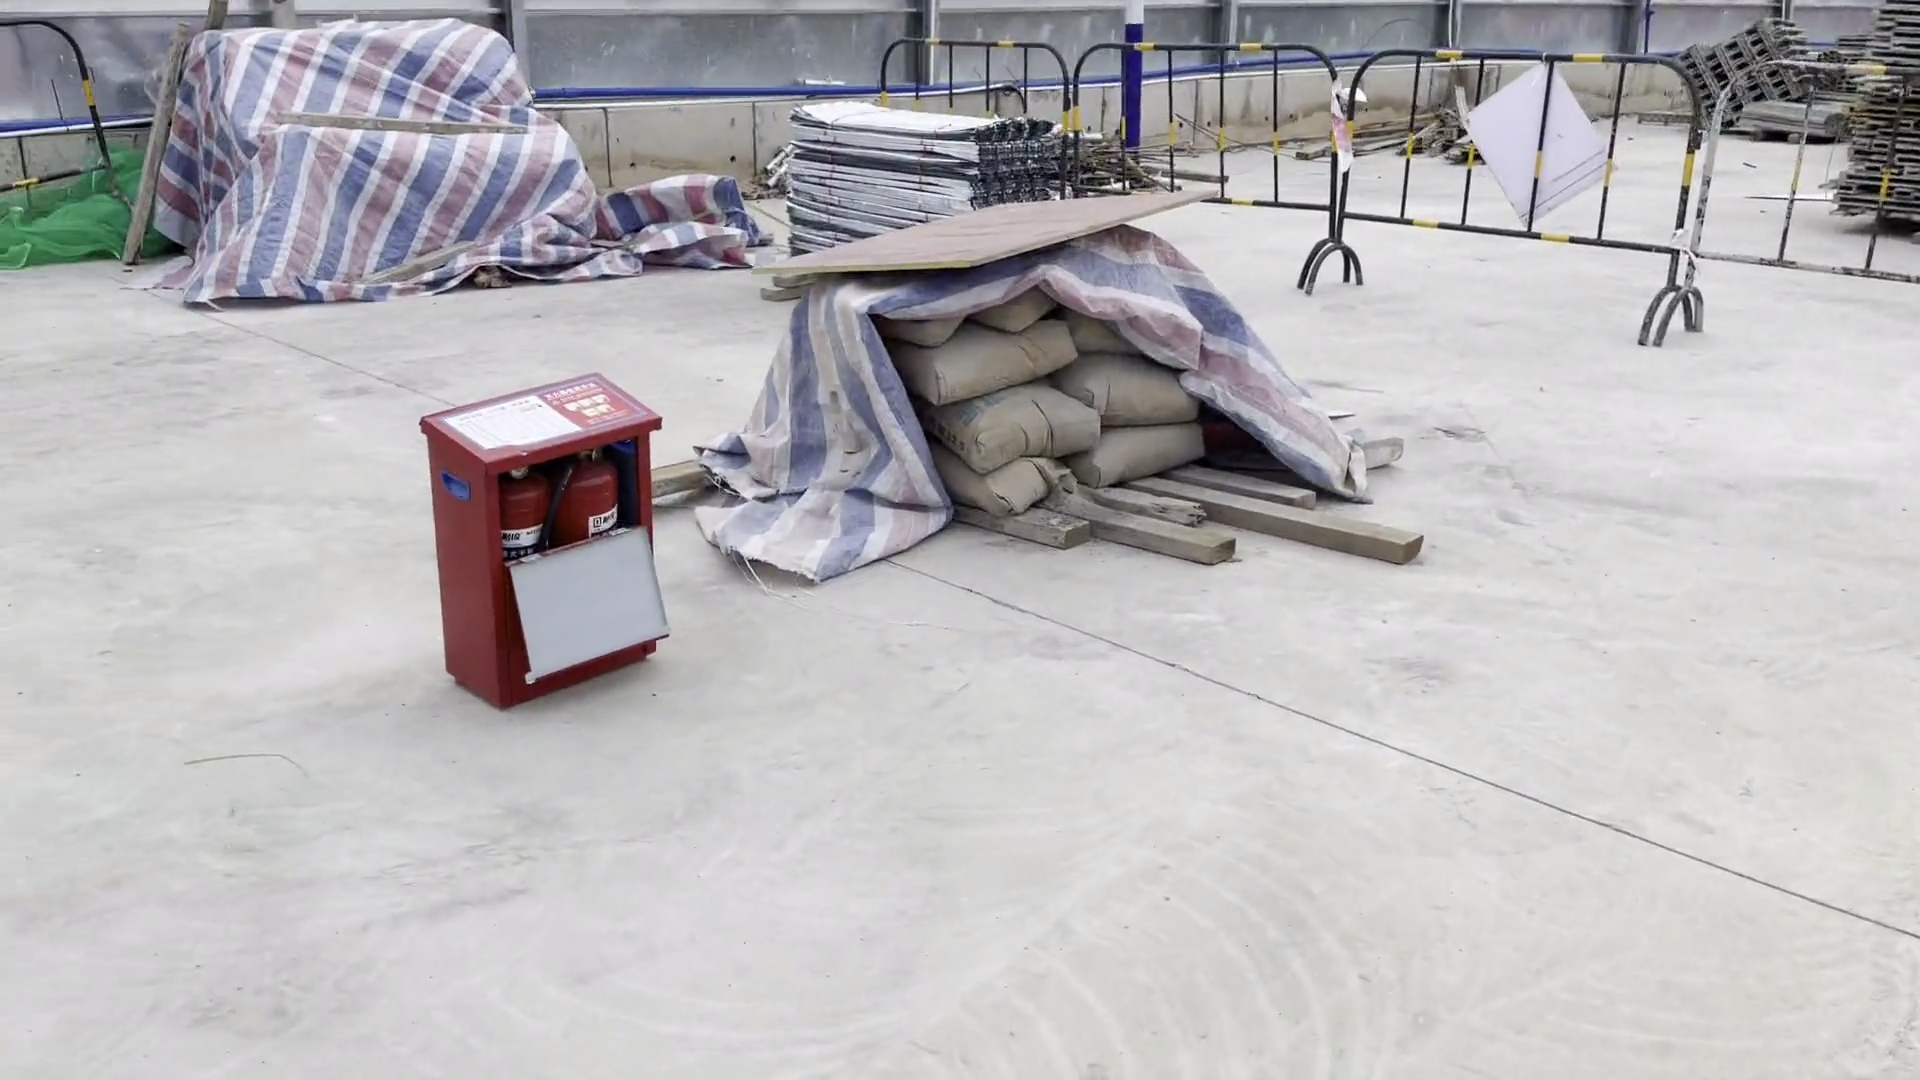board: (754, 196, 1261, 277)
fence: (891, 41, 1920, 339), (3, 18, 127, 223)
slogan: (436, 380, 650, 465)
